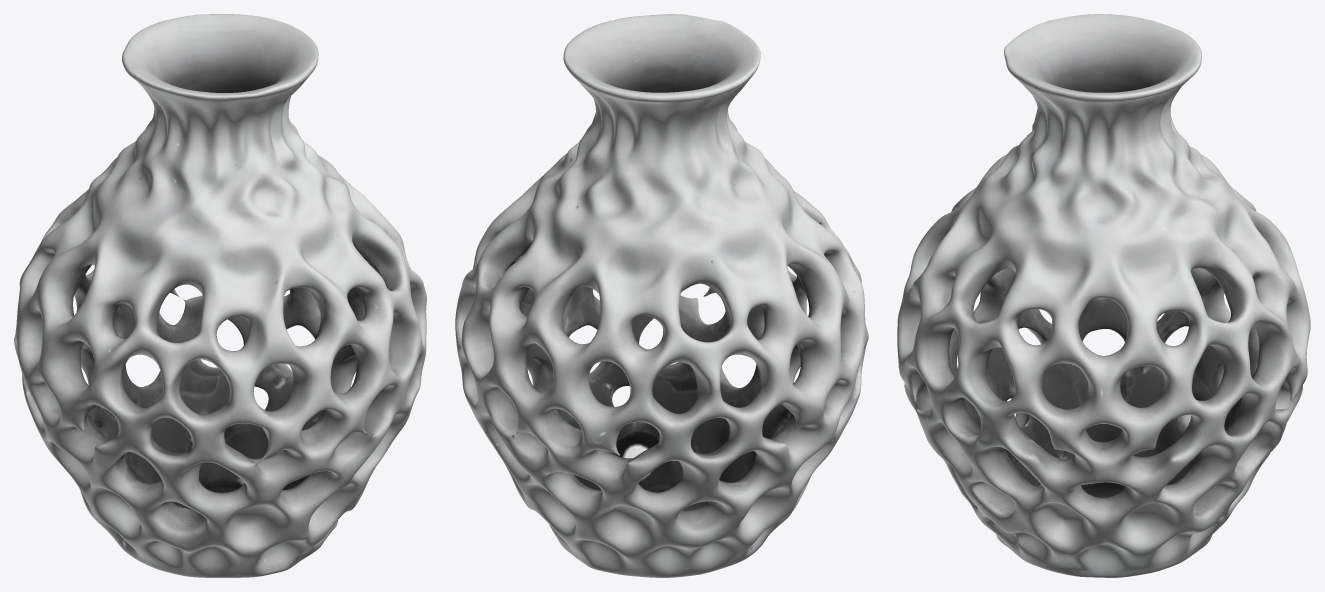
File: vase.compressed-optimized.glb
The picture shows the model from 3 angles, left to right: view 1: azimuth 30°, elevation 25°; view 2: azimuth 150°, elevation 25°; view 3: azimuth 270°, elevation 25°; orthographic projection.
Visible parts, largest first — view 1: mesh_0; view 2: mesh_0; view 3: mesh_0.
Boxes of the visible parts, bbox=[...] form: mesh_0: bbox=[14, 14, 426, 577]; mesh_0: bbox=[455, 14, 868, 577]; mesh_0: bbox=[897, 14, 1310, 577].
Bounding box in the file's own units: 50990 × 65534 × 51046.
Materials: 1 (1 with a texture image).
